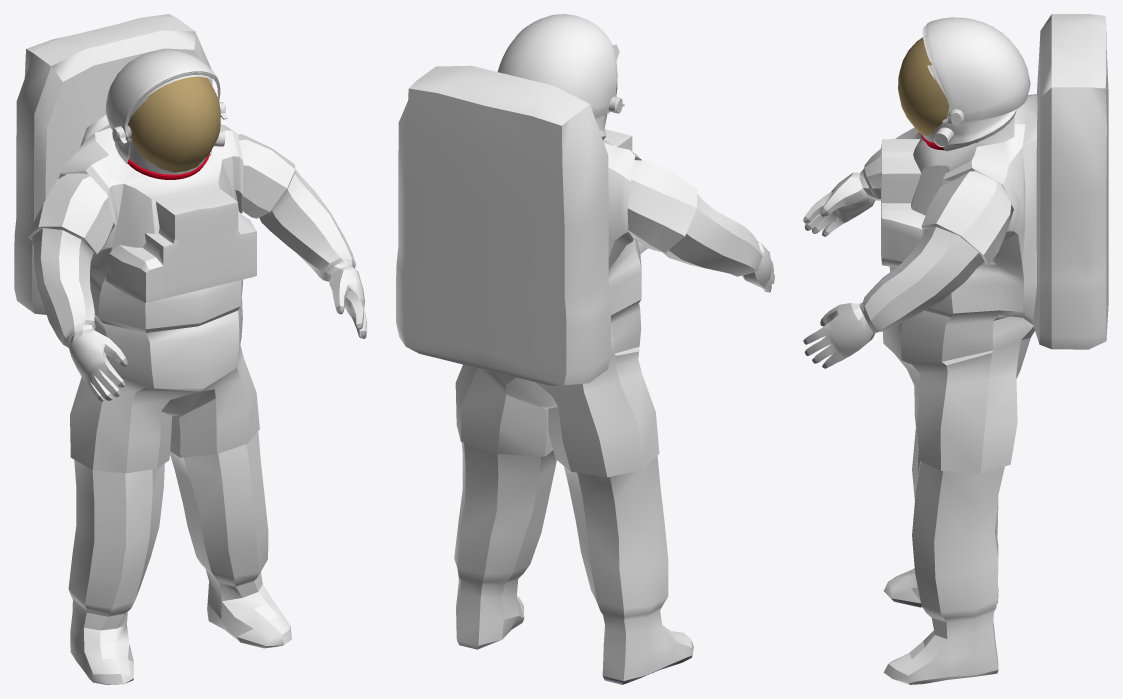
File: EVA suit.glb
3 renders of one model, left to right at view 1: azimuth 30°, elevation 25°; view 2: azimuth 150°, elevation 25°; view 3: azimuth 270°, elevation 25°, orthographic. The views are drawn at different scales.
Parts seen in each view (by area): view 1: eva.layer1; view 2: eva.layer1; view 3: eva.layer1.
Part boxes in pixels (x1,y1,x2,y2): eva.layer1: (14,14,367,684); eva.layer1: (396,14,774,684); eva.layer1: (803,14,1108,684).
Bounding box in the file's own units: 37.97 × 72.75 × 32.89.
